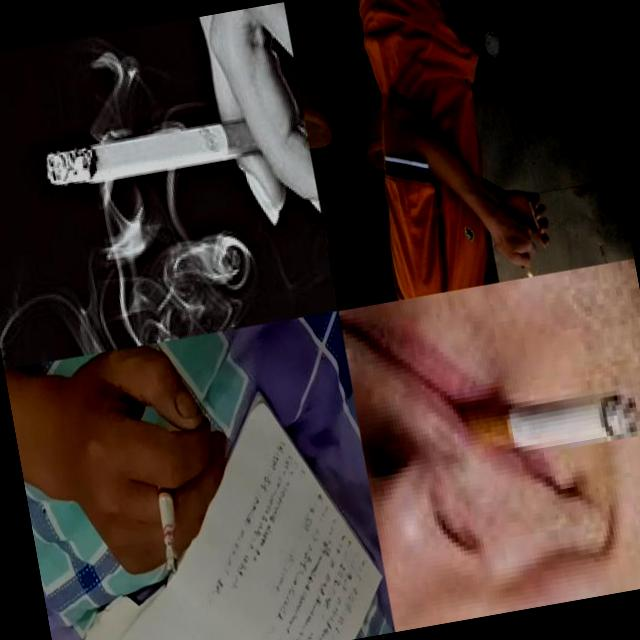cigarette: (42, 108, 302, 190), (455, 374, 640, 471), (147, 467, 188, 574)
